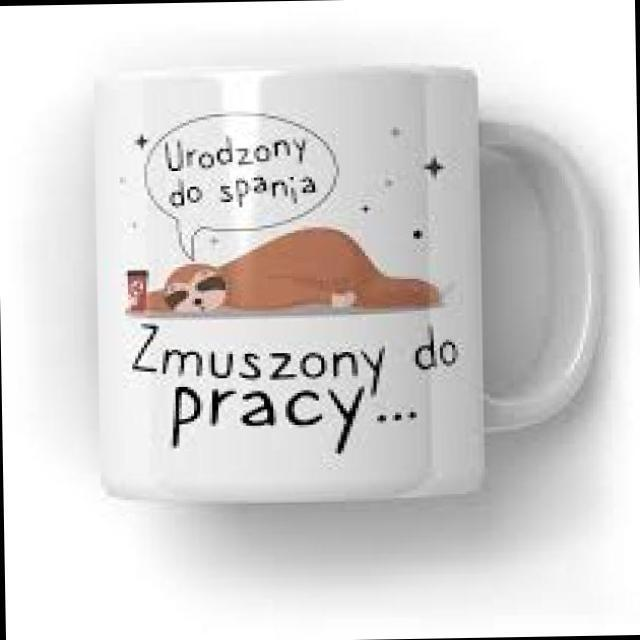taza: (226, 131, 480, 439)
